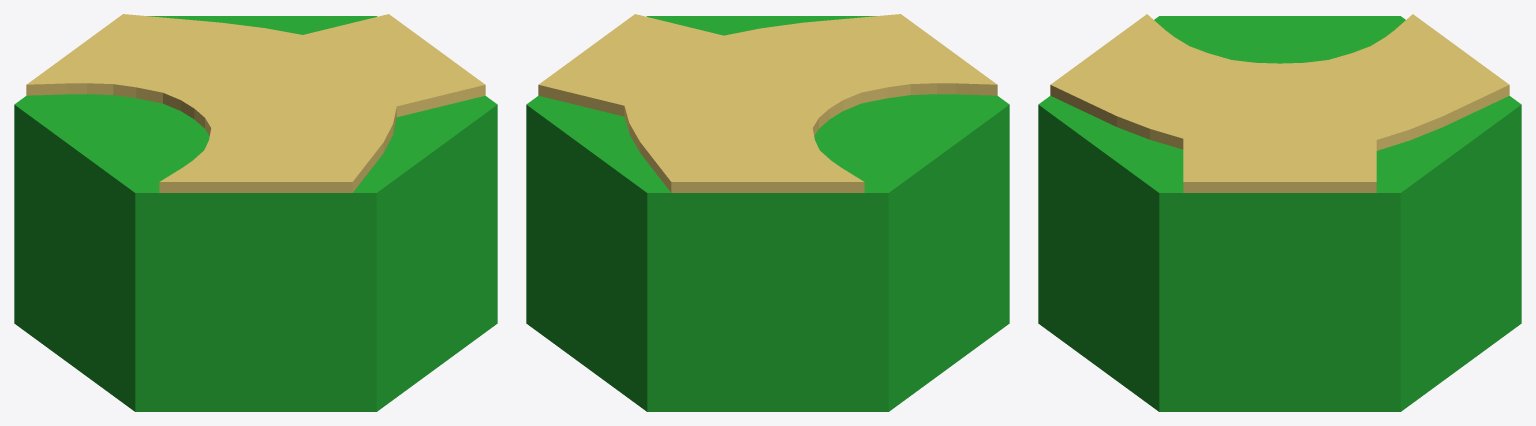
Rendered from path-y_corner.glb.
3 renders of one model, left to right at view 1: azimuth 30°, elevation 25°; view 2: azimuth 150°, elevation 25°; view 3: azimuth 270°, elevation 25°, orthographic.
Visible parts, largest first — view 1: path-y_corner; view 2: path-y_corner; view 3: path-y_corner.
Part boxes in pixels (x1=…): path-y_corner: x1=14, y1=14, x2=497, y2=411; path-y_corner: x1=526, y1=14, x2=1009, y2=411; path-y_corner: x1=1038, y1=14, x2=1521, y2=411.
Bounding box in the file's own units: 0.866 × 0.525 × 1.
